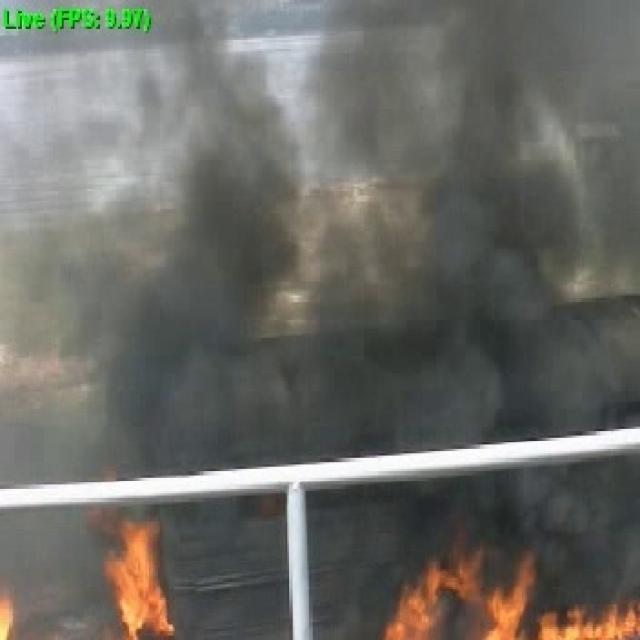fire: (403, 565, 640, 640), (124, 544, 162, 625)
smoke: (156, 163, 262, 470), (290, 356, 621, 430)
